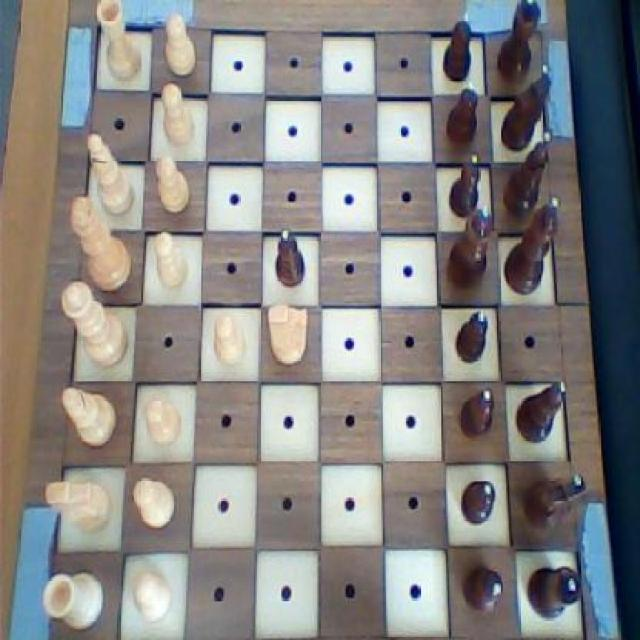bishop: (499, 129, 556, 221), (512, 376, 570, 446)
black-bishop: (500, 192, 565, 298)
black-king: (498, 60, 554, 155), (518, 469, 590, 531)
black-knight: (458, 558, 508, 620), (438, 9, 477, 82), (452, 385, 498, 443), (446, 78, 482, 150), (446, 154, 485, 219), (452, 308, 492, 368), (457, 474, 498, 529), (274, 225, 308, 290)
black-pawn: (443, 202, 495, 294)
black-queen: (491, 0, 546, 83), (522, 558, 586, 624)
black-rook: (84, 129, 138, 217), (57, 378, 120, 452)
white-king: (41, 474, 117, 546), (263, 296, 312, 372)
white-knight: (128, 472, 177, 532), (162, 5, 200, 79), (152, 152, 192, 217), (160, 80, 196, 151), (128, 568, 175, 622), (151, 228, 189, 292), (142, 394, 184, 450), (210, 311, 248, 371)
white-pawn: (58, 276, 130, 374), (66, 192, 134, 292)
white-queen: (91, 0, 146, 88), (40, 563, 105, 634)
